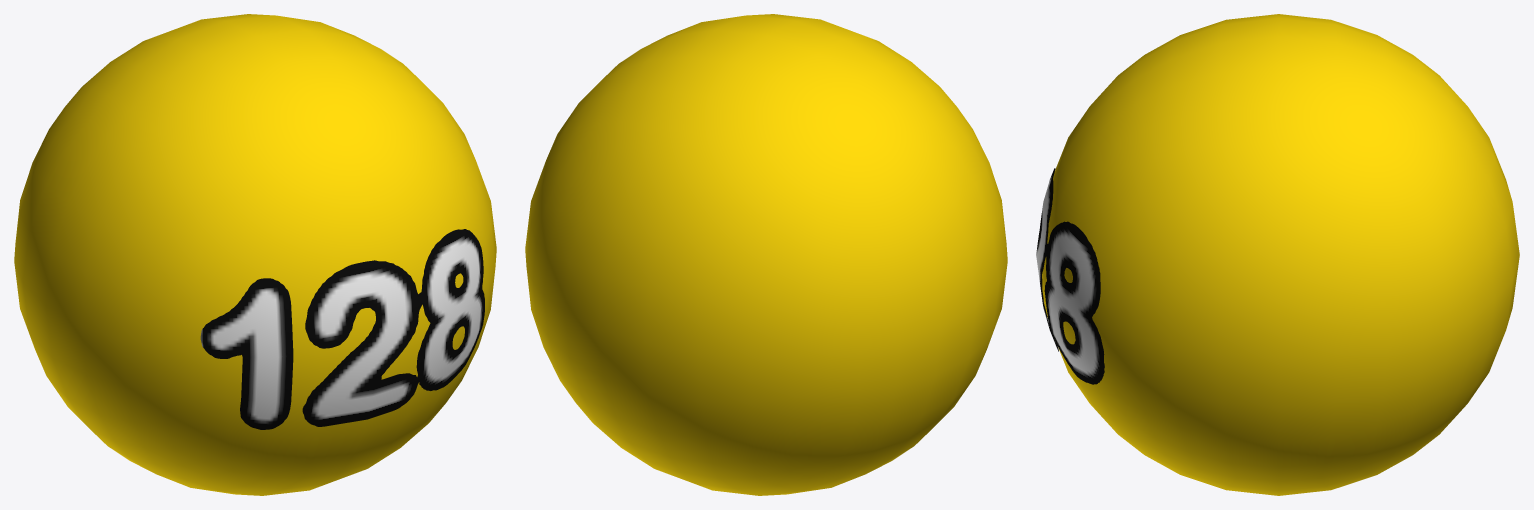
File: Ball 128.fbx
The picture shows the model from 3 angles, left to right: view 1: azimuth 30°, elevation 25°; view 2: azimuth 150°, elevation 25°; view 3: azimuth 270°, elevation 25°; orthographic projection.
Visible parts, largest first — view 1: Ball 128; view 2: Ball 128; view 3: Ball 128.
Part boxes in pixels (<box>): Ball 128: <box>14,14,496,495</box>; Ball 128: <box>525,14,1007,495</box>; Ball 128: <box>1036,14,1519,495</box>.
Bounding box in the file's own units: 164 × 164 × 164.
